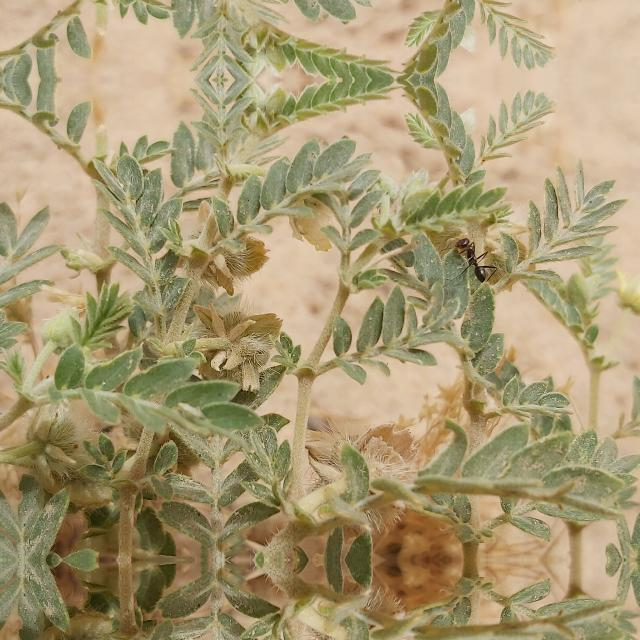Cataglyphis: (446, 231, 506, 289)
